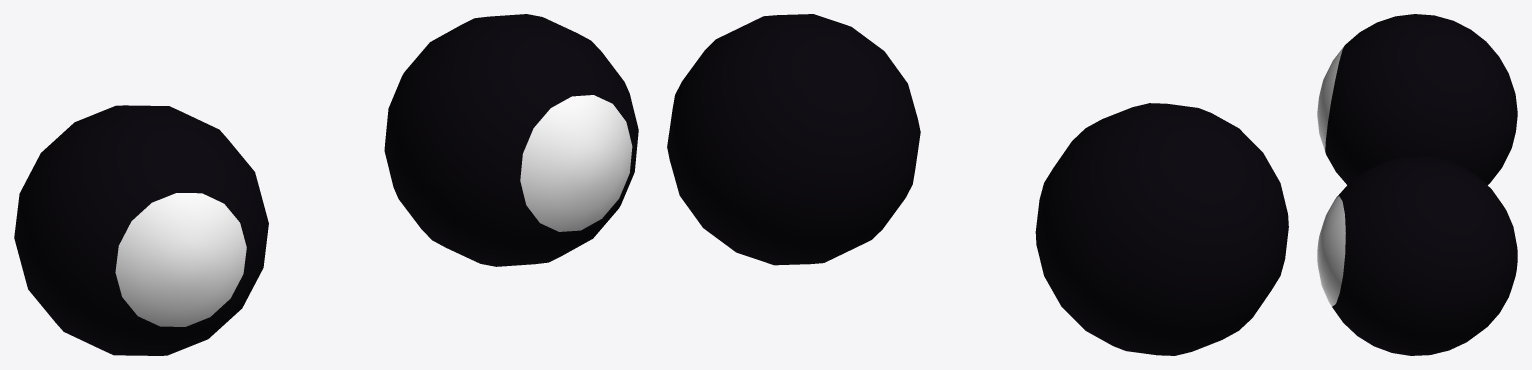
File: OjosGunter_obj.obj
The picture shows the model from 3 angles, left to right: view 1: azimuth 30°, elevation 25°; view 2: azimuth 150°, elevation 25°; view 3: azimuth 270°, elevation 25°; orthographic projection. The views are drawn at different scales.
Visible parts, largest first — view 1: Ojos; view 2: Ojos; view 3: Ojos.
Boxes of the visible parts, x1,y1,x2,y2 form: Ojos: [14, 14, 638, 355]; Ojos: [667, 14, 1288, 355]; Ojos: [1317, 14, 1517, 355].
Bounding box in the file's own units: 0.4944 × 0.1846 × 0.185.
